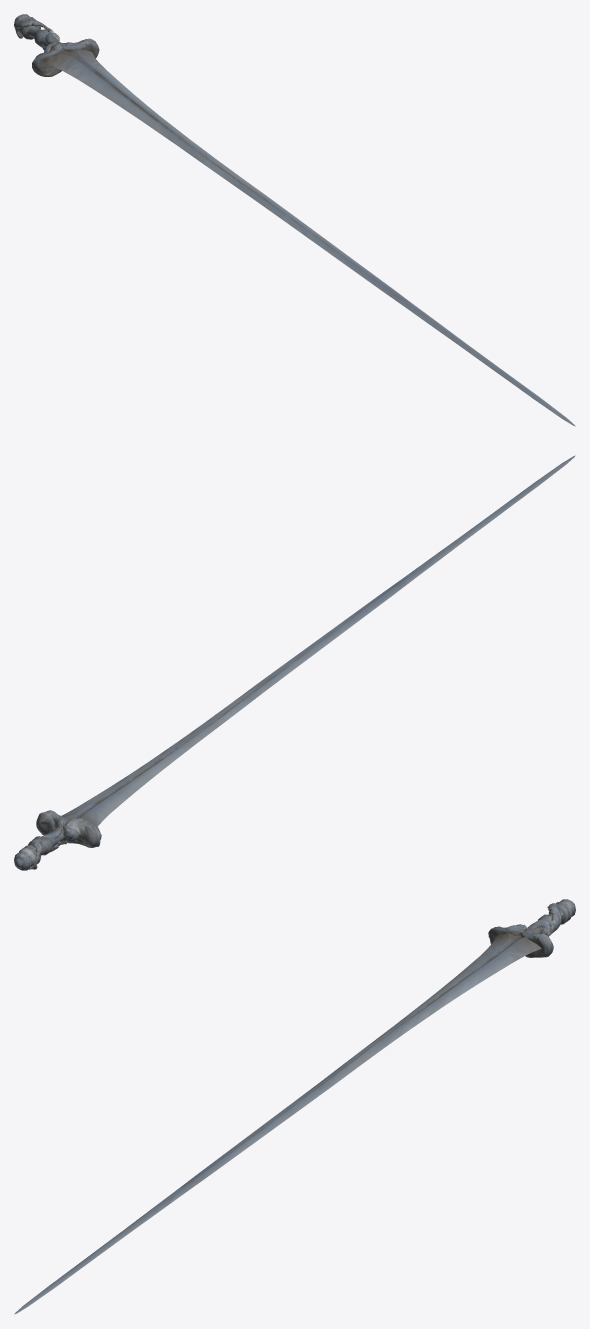
The model's file is noxflowingsword.fbx.
3 views of the same model, one above another, from view 1: azimuth 30°, elevation 25°; view 2: azimuth 150°, elevation 25°; view 3: azimuth 330°, elevation 25° (orthographic).
Parts seen in each view (by area): view 1: WP_A_0217.001; view 2: WP_A_0217.001; view 3: WP_A_0217.001.
Boxes of the visible parts, x1=… form: WP_A_0217.001: x1=14, y1=14, x2=575, y2=426; WP_A_0217.001: x1=14, y1=455, x2=575, y2=870; WP_A_0217.001: x1=14, y1=899, x2=575, y2=1314.
Bounding box in the file's own units: 14.87 × 6.07 × 225.
Materials: 2 (2 with a texture image).
